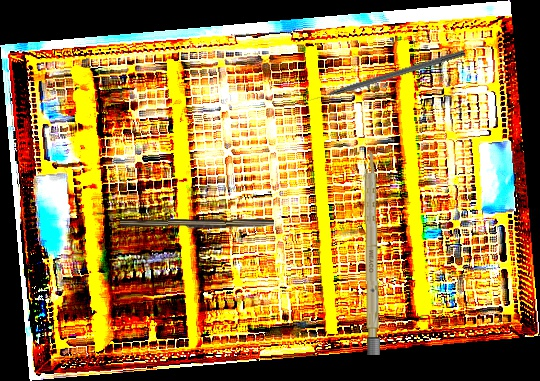Hook Surgical: (303, 48, 466, 106)
Scalpel Handle: (363, 149, 380, 356), (119, 216, 275, 232)
